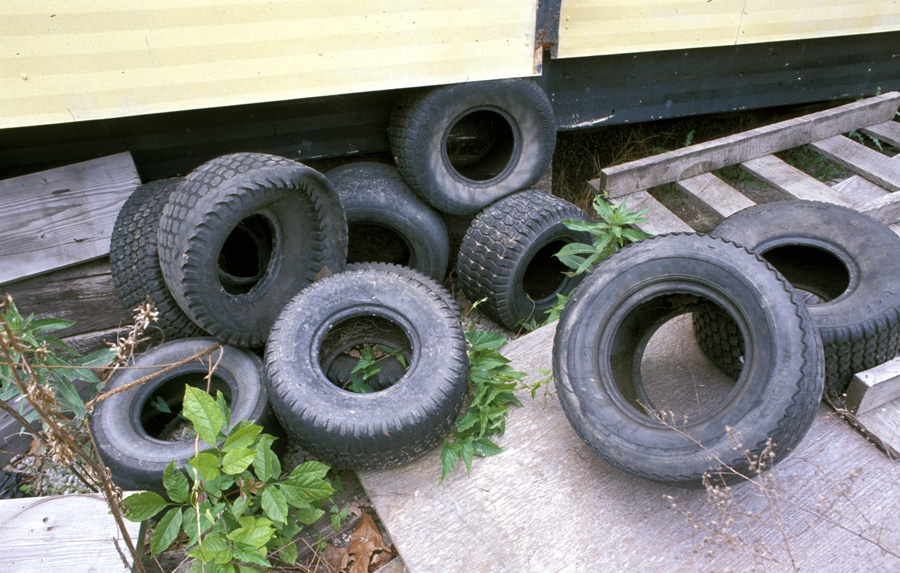tire: (552, 232, 824, 490), (265, 269, 468, 469), (695, 201, 900, 389), (156, 149, 349, 348), (91, 340, 268, 495), (390, 77, 554, 217), (460, 195, 593, 332), (315, 161, 449, 287)
